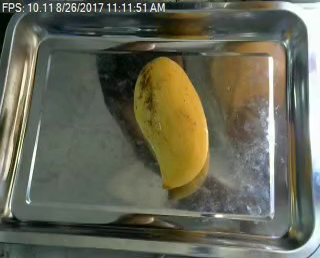Mango: (130, 52, 213, 197)
